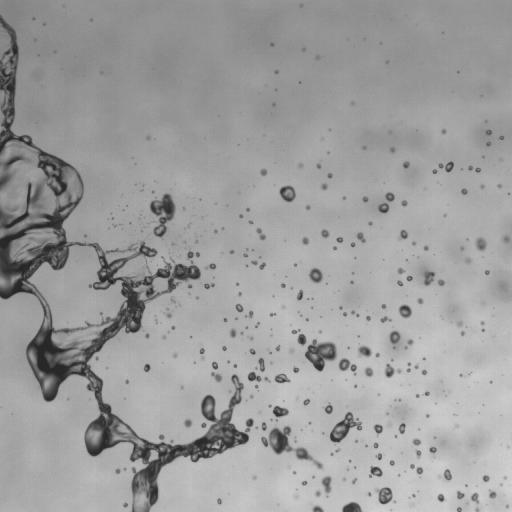droplet: (149, 193, 175, 237), (304, 339, 337, 371), (330, 412, 362, 443), (375, 487, 393, 504), (338, 358, 356, 374), (279, 185, 295, 202), (384, 364, 401, 377), (272, 406, 288, 419), (309, 268, 322, 283), (398, 304, 411, 318), (357, 345, 371, 357), (438, 161, 453, 172), (475, 237, 486, 251), (247, 371, 261, 382), (274, 373, 289, 383), (439, 469, 451, 481), (389, 331, 400, 344), (369, 465, 382, 476), (424, 271, 434, 285), (211, 371, 222, 382), (398, 230, 407, 240), (364, 367, 373, 377), (323, 403, 332, 413), (373, 424, 382, 434), (429, 446, 436, 458), (357, 232, 365, 242), (312, 505, 324, 511), (398, 423, 405, 433), (321, 229, 329, 237), (235, 304, 243, 312), (184, 419, 192, 427), (205, 263, 215, 269), (204, 283, 214, 289), (297, 290, 303, 300), (380, 316, 390, 322), (229, 329, 236, 337), (412, 438, 420, 445), (457, 491, 464, 499), (489, 490, 496, 498), (437, 494, 445, 501), (246, 311, 253, 318), (415, 450, 421, 458), (403, 161, 409, 168), (260, 168, 266, 175), (321, 183, 327, 190), (302, 237, 308, 244), (259, 262, 265, 269), (397, 268, 404, 274), (144, 364, 150, 371), (482, 475, 489, 481), (315, 490, 321, 497), (212, 361, 217, 369), (261, 422, 266, 430), (461, 188, 467, 194), (401, 200, 407, 206), (503, 236, 509, 242), (438, 279, 444, 285), (165, 312, 171, 318), (303, 399, 309, 405), (376, 453, 382, 459), (362, 196, 367, 202), (336, 237, 342, 242), (465, 258, 471, 263), (406, 276, 412, 281), (417, 298, 423, 303), (249, 349, 255, 354), (293, 366, 298, 372), (263, 377, 269, 382), (486, 130, 491, 135), (468, 165, 473, 170), (327, 173, 332, 178), (252, 260, 257, 265), (397, 280, 402, 285), (381, 304, 386, 309), (457, 321, 462, 326), (421, 369, 426, 374), (373, 443, 378, 448), (389, 460, 394, 465), (217, 498, 221, 504), (441, 129, 446, 133), (390, 147, 394, 152), (316, 163, 320, 168), (432, 169, 437, 173), (475, 168, 480, 172), (424, 245, 428, 250), (484, 270, 489, 274), (289, 348, 293, 353), (424, 391, 429, 395), (201, 423, 206, 427), (115, 469, 120, 473), (301, 481, 306, 485), (486, 142, 490, 146), (298, 163, 302, 167), (306, 205, 310, 209), (239, 214, 243, 218), (368, 221, 372, 225), (186, 224, 190, 228), (243, 253, 247, 257), (281, 283, 285, 287), (270, 312, 274, 316), (366, 316, 370, 320), (255, 323, 259, 327), (145, 333, 149, 337), (222, 346, 226, 350), (173, 353, 177, 357), (375, 353, 379, 357), (252, 475, 256, 479), (352, 479, 356, 483), (367, 492, 371, 496), (123, 503, 127, 507), (457, 507, 461, 511), (276, 346, 279, 351), (336, 447, 339, 452), (480, 185, 484, 188), (351, 243, 355, 246), (171, 298, 174, 302), (480, 321, 484, 324), (461, 331, 464, 335), (249, 336, 253, 339), (415, 364, 418, 368), (499, 136, 502, 139), (498, 184, 501, 187), (333, 246, 336, 249), (230, 250, 233, 253), (238, 292, 241, 295), (343, 312, 346, 315), (125, 380, 128, 383), (255, 385, 258, 388), (250, 395, 253, 398), (455, 424, 458, 427), (292, 471, 295, 474), (387, 423, 391, 425), (271, 43, 273, 46), (316, 56, 319, 58), (275, 70, 277, 73), (343, 196, 345, 199), (249, 221, 252, 223), (214, 230, 217, 232), (412, 242, 415, 244), (460, 247, 463, 249), (294, 263, 296, 266), (282, 305, 284, 308), (100, 313, 102, 316), (155, 319, 157, 322), (224, 319, 227, 321), (172, 326, 174, 329), (95, 357, 98, 359), (459, 374, 462, 376), (412, 494, 415, 496), (147, 136, 149, 138), (363, 147, 365, 149), (195, 240, 197, 242), (172, 243, 174, 245), (196, 297, 198, 299), (319, 331, 321, 333), (241, 332, 243, 334), (163, 336, 165, 338), (269, 351, 271, 353), (423, 358, 425, 360), (234, 365, 236, 367), (468, 373, 470, 375), (395, 435, 397, 437), (343, 478, 345, 480), (295, 495, 297, 497), (506, 505, 508, 507)
ligament: (0, 15, 253, 511), (261, 425, 323, 469), (378, 192, 394, 213), (291, 329, 306, 346), (342, 501, 363, 511), (470, 492, 481, 511), (321, 476, 331, 496), (410, 464, 422, 474), (256, 228, 265, 239), (258, 358, 264, 371), (405, 339, 413, 348), (199, 348, 204, 359), (406, 362, 411, 372), (351, 311, 359, 316)
